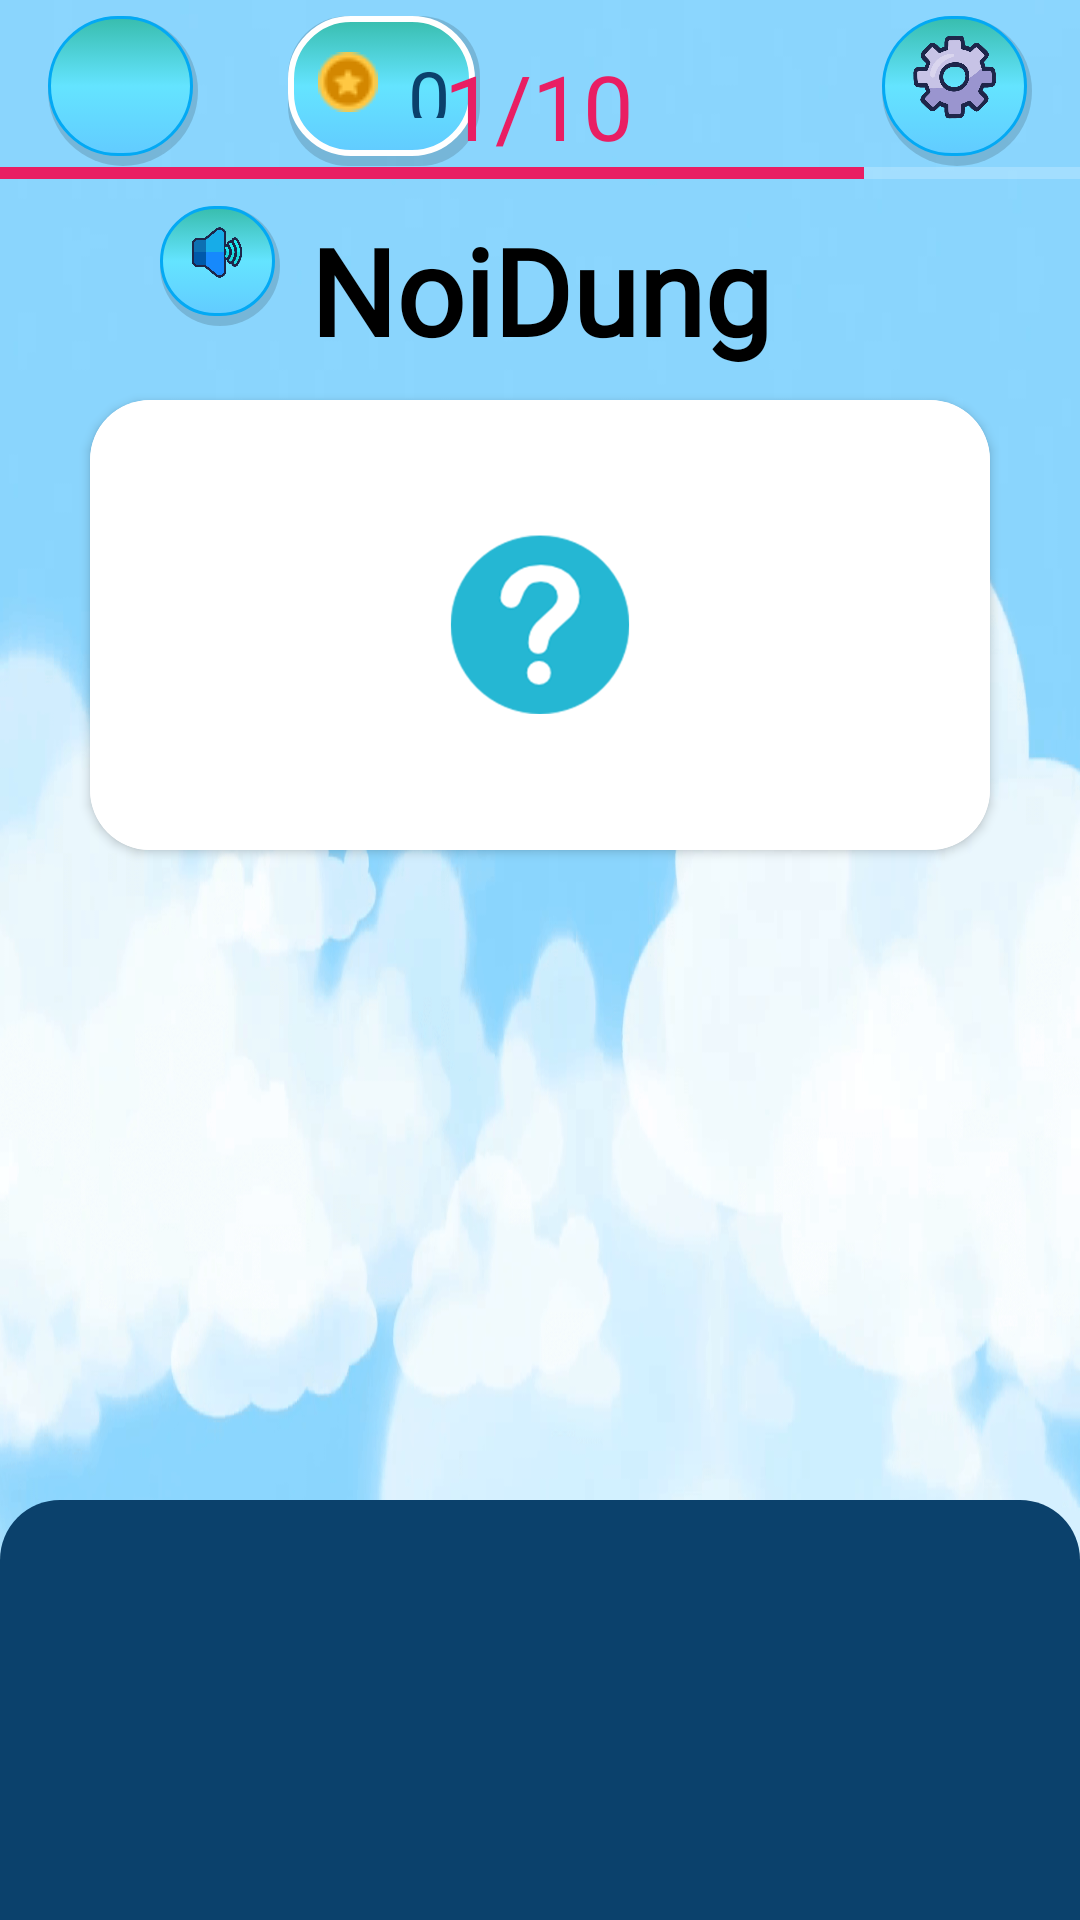

Icon click points for this 1080px x 1920px phone screenshot, format (x,y):
setting: (957,91)
speaker: (220,266)
